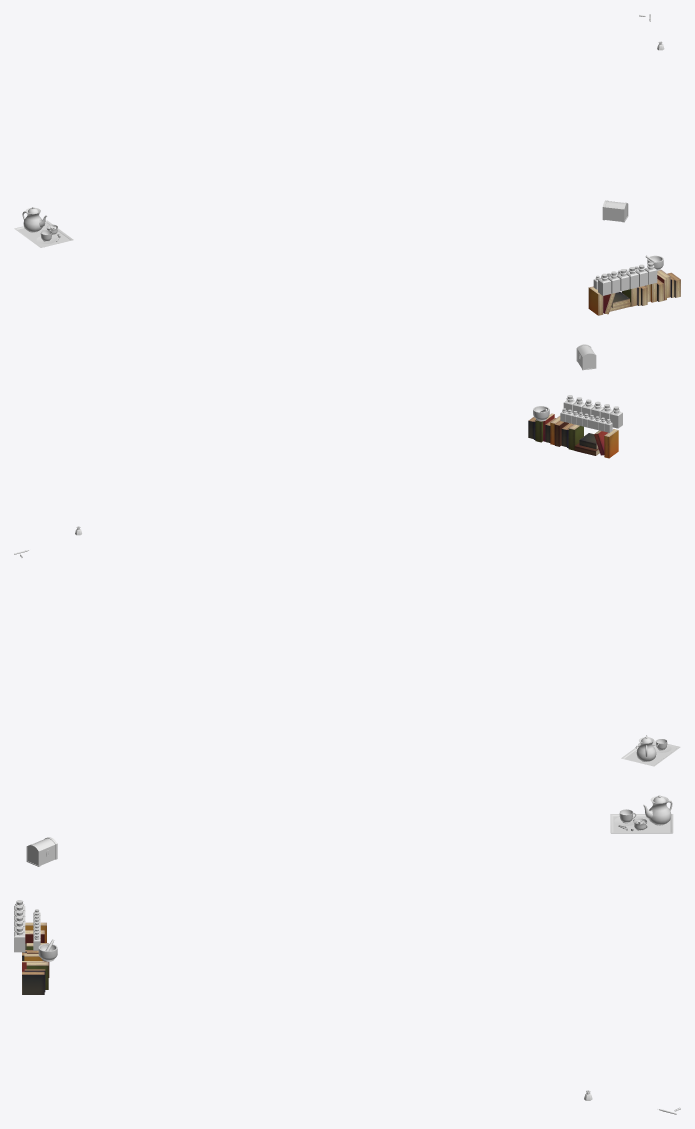
Rendered from Small_Objects_NormalExport.fbx.
3 views of the same model, one above another, from view 1: azimuth 30°, elevation 25°; view 2: azimuth 150°, elevation 25°; view 3: azimuth 270°, elevation 25° (orthographic). The views are drawn at different scales.
Visible parts, largest first — view 1: Books_Low_Storage, Medication_Bottle, Chest_Small, Tray; view 2: Books_Low_Storage, Medication_Bottle; view 3: Books_Low_Storage, Medication_Bottle, Tray, Chest_Small, Tea_pot.
Part boxes in pixels (left/top/right/bottom): Books_Low_Storage: left=588, top=270, right=680, bottom=315; Medication_Bottle: left=593, top=262, right=657, bottom=295; Chest_Small: left=602, top=200, right=628, bottom=222; Tray: left=14, top=220, right=73, bottom=247; Books_Low_Storage: left=528, top=413, right=618, bottom=458; Medication_Bottle: left=560, top=395, right=622, bottom=432; Books_Low_Storage: left=22, top=922, right=49, bottom=994; Medication_Bottle: left=14, top=900, right=40, bottom=952; Tray: left=610, top=814, right=673, bottom=833; Chest_Small: left=26, top=837, right=57, bottom=866; Tea_pot: left=643, top=795, right=672, bottom=825.
Bounding box in the file's own units: 2755 × 582 × 2110.
